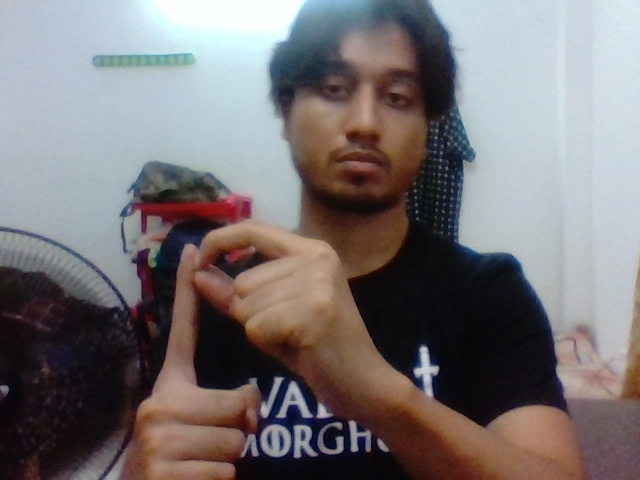P: (144, 210, 336, 466)
